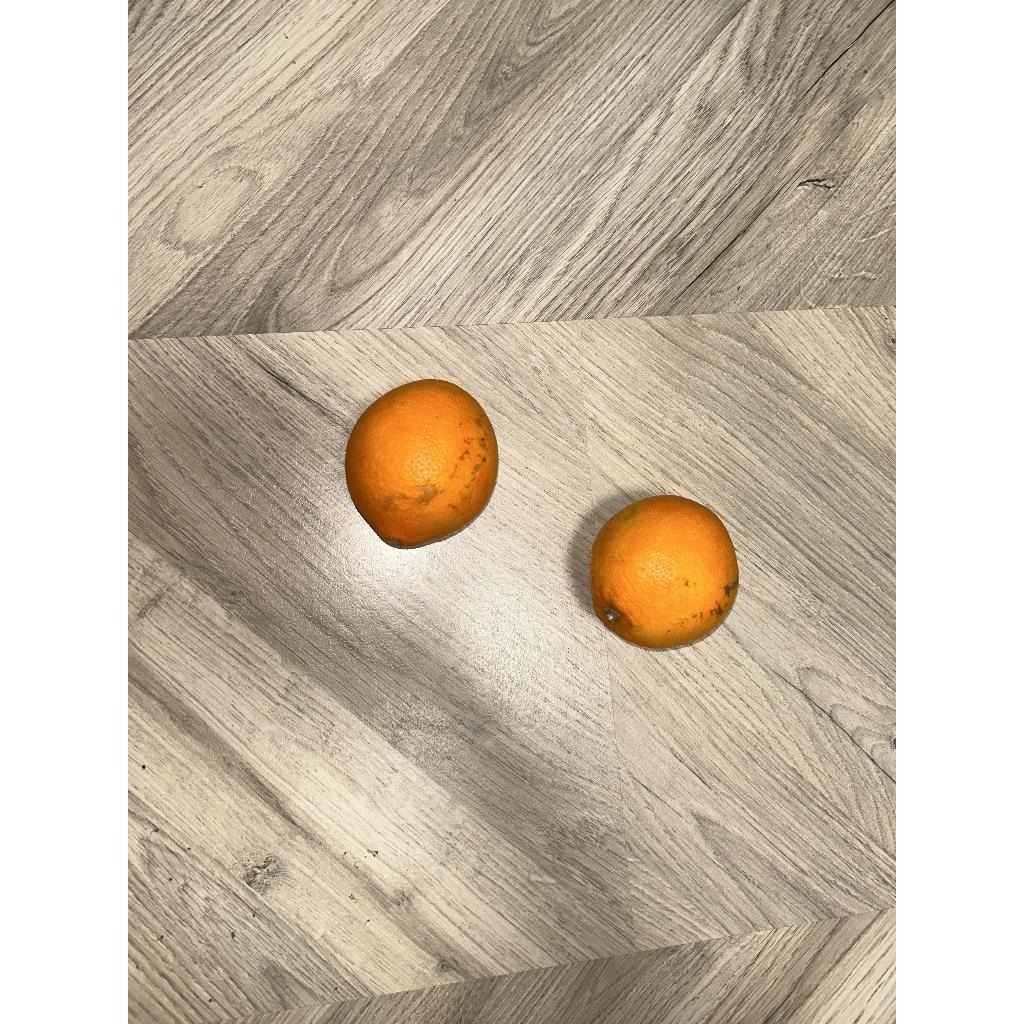orange: (346, 380, 498, 548), (590, 496, 738, 648)
